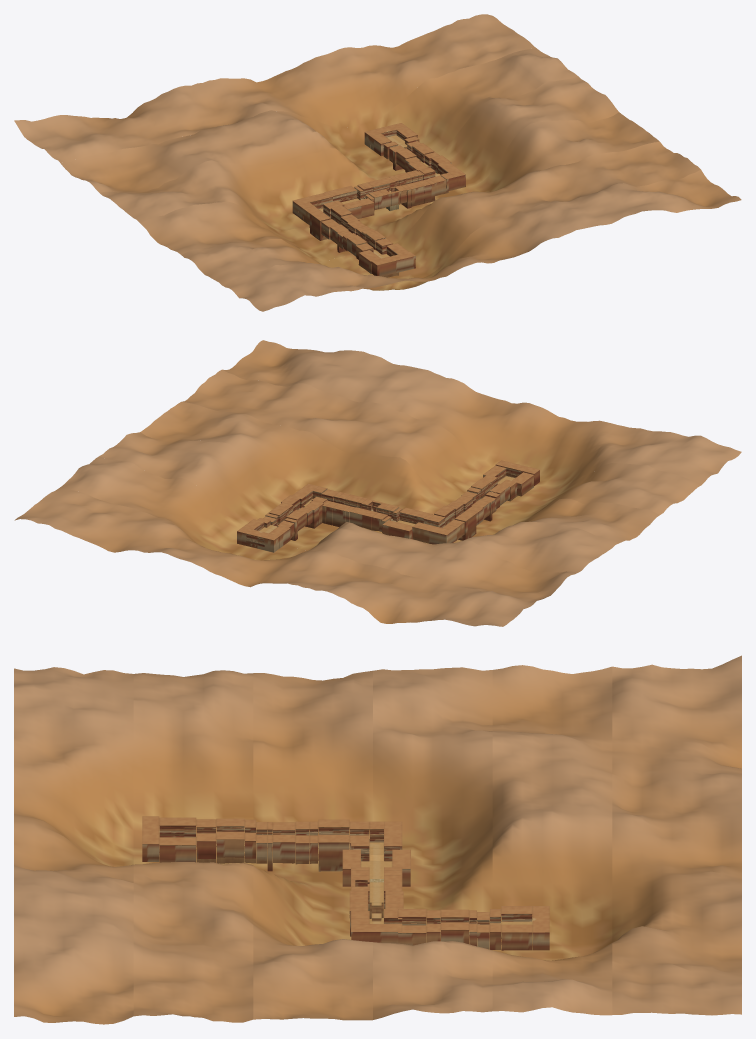
The model's file is scorpion_gulch_terrain.glb.
The picture shows the model from 3 angles, top to bottom: view 1: azimuth 30°, elevation 25°; view 2: azimuth 150°, elevation 25°; view 3: azimuth 270°, elevation 25°; orthographic projection. The views are drawn at different scales.
Visible parts, largest first — view 1: backdrop_5, backdrop_4, backdrop_3, backdrop_1, backdrop_0, backdrop_2, terrain_J, terrain_A, terrain_H, terrain_I, terrain_B, terrain_F (+4 smaller); view 2: backdrop_0, backdrop_1, backdrop_5, backdrop_2, backdrop_4, backdrop_3, terrain_J, terrain_B, terrain_I, terrain_H, terrain_A, terrain_F (+4 smaller); view 3: backdrop_5, backdrop_0, backdrop_4, backdrop_1, backdrop_3, backdrop_2, terrain_J, terrain_B, terrain_I, terrain_A, terrain_D, terrain_F (+4 smaller).
Part boxes in pixels (x1=…): backdrop_5: x1=14, y1=14, x2=536, y2=162; backdrop_4: x1=59, y1=48, x2=577, y2=192; backdrop_3: x1=100, y1=76, x2=618, y2=230; backdrop_1: x1=181, y1=141, x2=700, y2=289; backdrop_0: x1=222, y1=169, x2=741, y2=311; backdrop_2: x1=140, y1=112, x2=659, y2=261; terrain_J: x1=364, y1=123, x2=434, y2=170; terrain_A: x1=358, y1=243, x2=415, y2=277; terrain_H: x1=389, y1=167, x2=446, y2=208; terrain_I: x1=405, y1=152, x2=465, y2=194; terrain_B: x1=337, y1=226, x2=392, y2=259; terrain_F: x1=324, y1=184, x2=378, y2=218; backdrop_0: x1=223, y1=340, x2=741, y2=489; backdrop_1: x1=182, y1=369, x2=700, y2=521; backdrop_5: x1=14, y1=488, x2=536, y2=626; backdrop_2: x1=140, y1=402, x2=659, y2=543; backdrop_4: x1=59, y1=456, x2=577, y2=602; backdrop_3: x1=99, y1=432, x2=618, y2=572; terrain_J: x1=237, y1=505, x2=306, y2=552; terrain_B: x1=461, y1=475, x2=517, y2=521; terrain_I: x1=279, y1=483, x2=327, y2=528; terrain_H: x1=310, y1=489, x2=367, y2=526; terrain_A: x1=483, y1=460, x2=539, y2=501; terrain_F: x1=378, y1=506, x2=432, y2=540; backdrop_5: x1=612, y1=655, x2=741, y2=1015; backdrop_0: x1=14, y1=667, x2=133, y2=1024; backdrop_4: x1=492, y1=665, x2=612, y2=1015; backdrop_1: x1=133, y1=670, x2=253, y2=1022; backdrop_3: x1=373, y1=667, x2=492, y2=1019; backdrop_2: x1=253, y1=670, x2=372, y2=1020; terrain_J: x1=440, y1=906, x2=549, y2=950; terrain_B: x1=196, y1=818, x2=272, y2=871; terrain_I: x1=351, y1=909, x2=440, y2=945; terrain_A: x1=142, y1=816, x2=196, y2=862; terrain_D: x1=309, y1=819, x2=369, y2=871; terrain_F: x1=342, y1=849, x2=410, y2=893.
Bounding box in the file's own units: 567 × 64.73 × 511.
